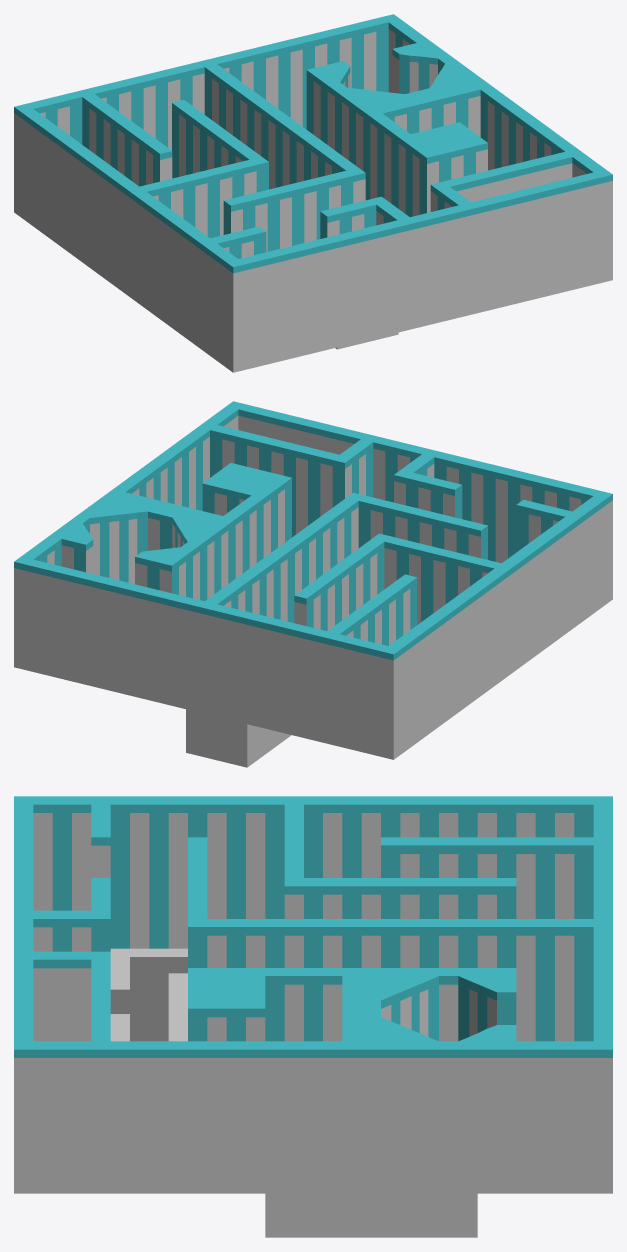
File: levelobj5.fbx
The picture shows the model from 3 angles, top to bottom: view 1: azimuth 30°, elevation 25°; view 2: azimuth 150°, elevation 25°; view 3: azimuth 270°, elevation 25°; orthographic projection. The views are drawn at different scales.
Parts seen in each view (by area): view 1: Plane; view 2: Plane; view 3: Plane.
Part boxes in pixels (left/top/right/bottom): Plane: left=14, top=14, right=612, bottom=372; Plane: left=14, top=401, right=612, bottom=767; Plane: left=14, top=796, right=612, bottom=1237.
Bounding box in the file's own units: 1600 × 795 × 1600.
